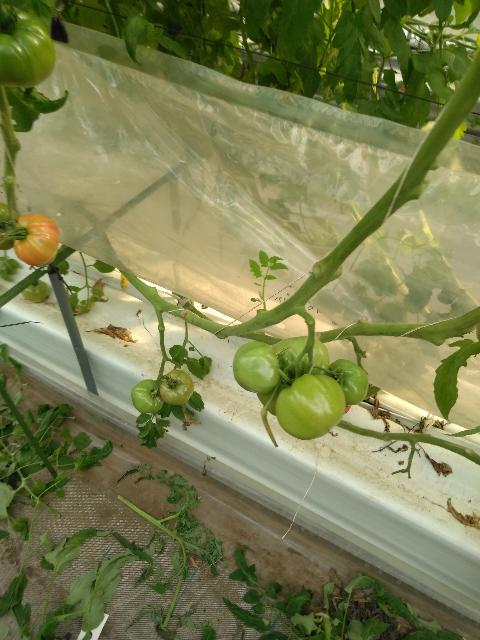b_green: (257, 335, 330, 415), (0, 3, 56, 87), (276, 375, 346, 440), (233, 341, 281, 394), (326, 359, 369, 406), (159, 369, 194, 405), (131, 380, 164, 414), (0, 201, 21, 251)
b_half_ripened: (11, 213, 60, 266)
